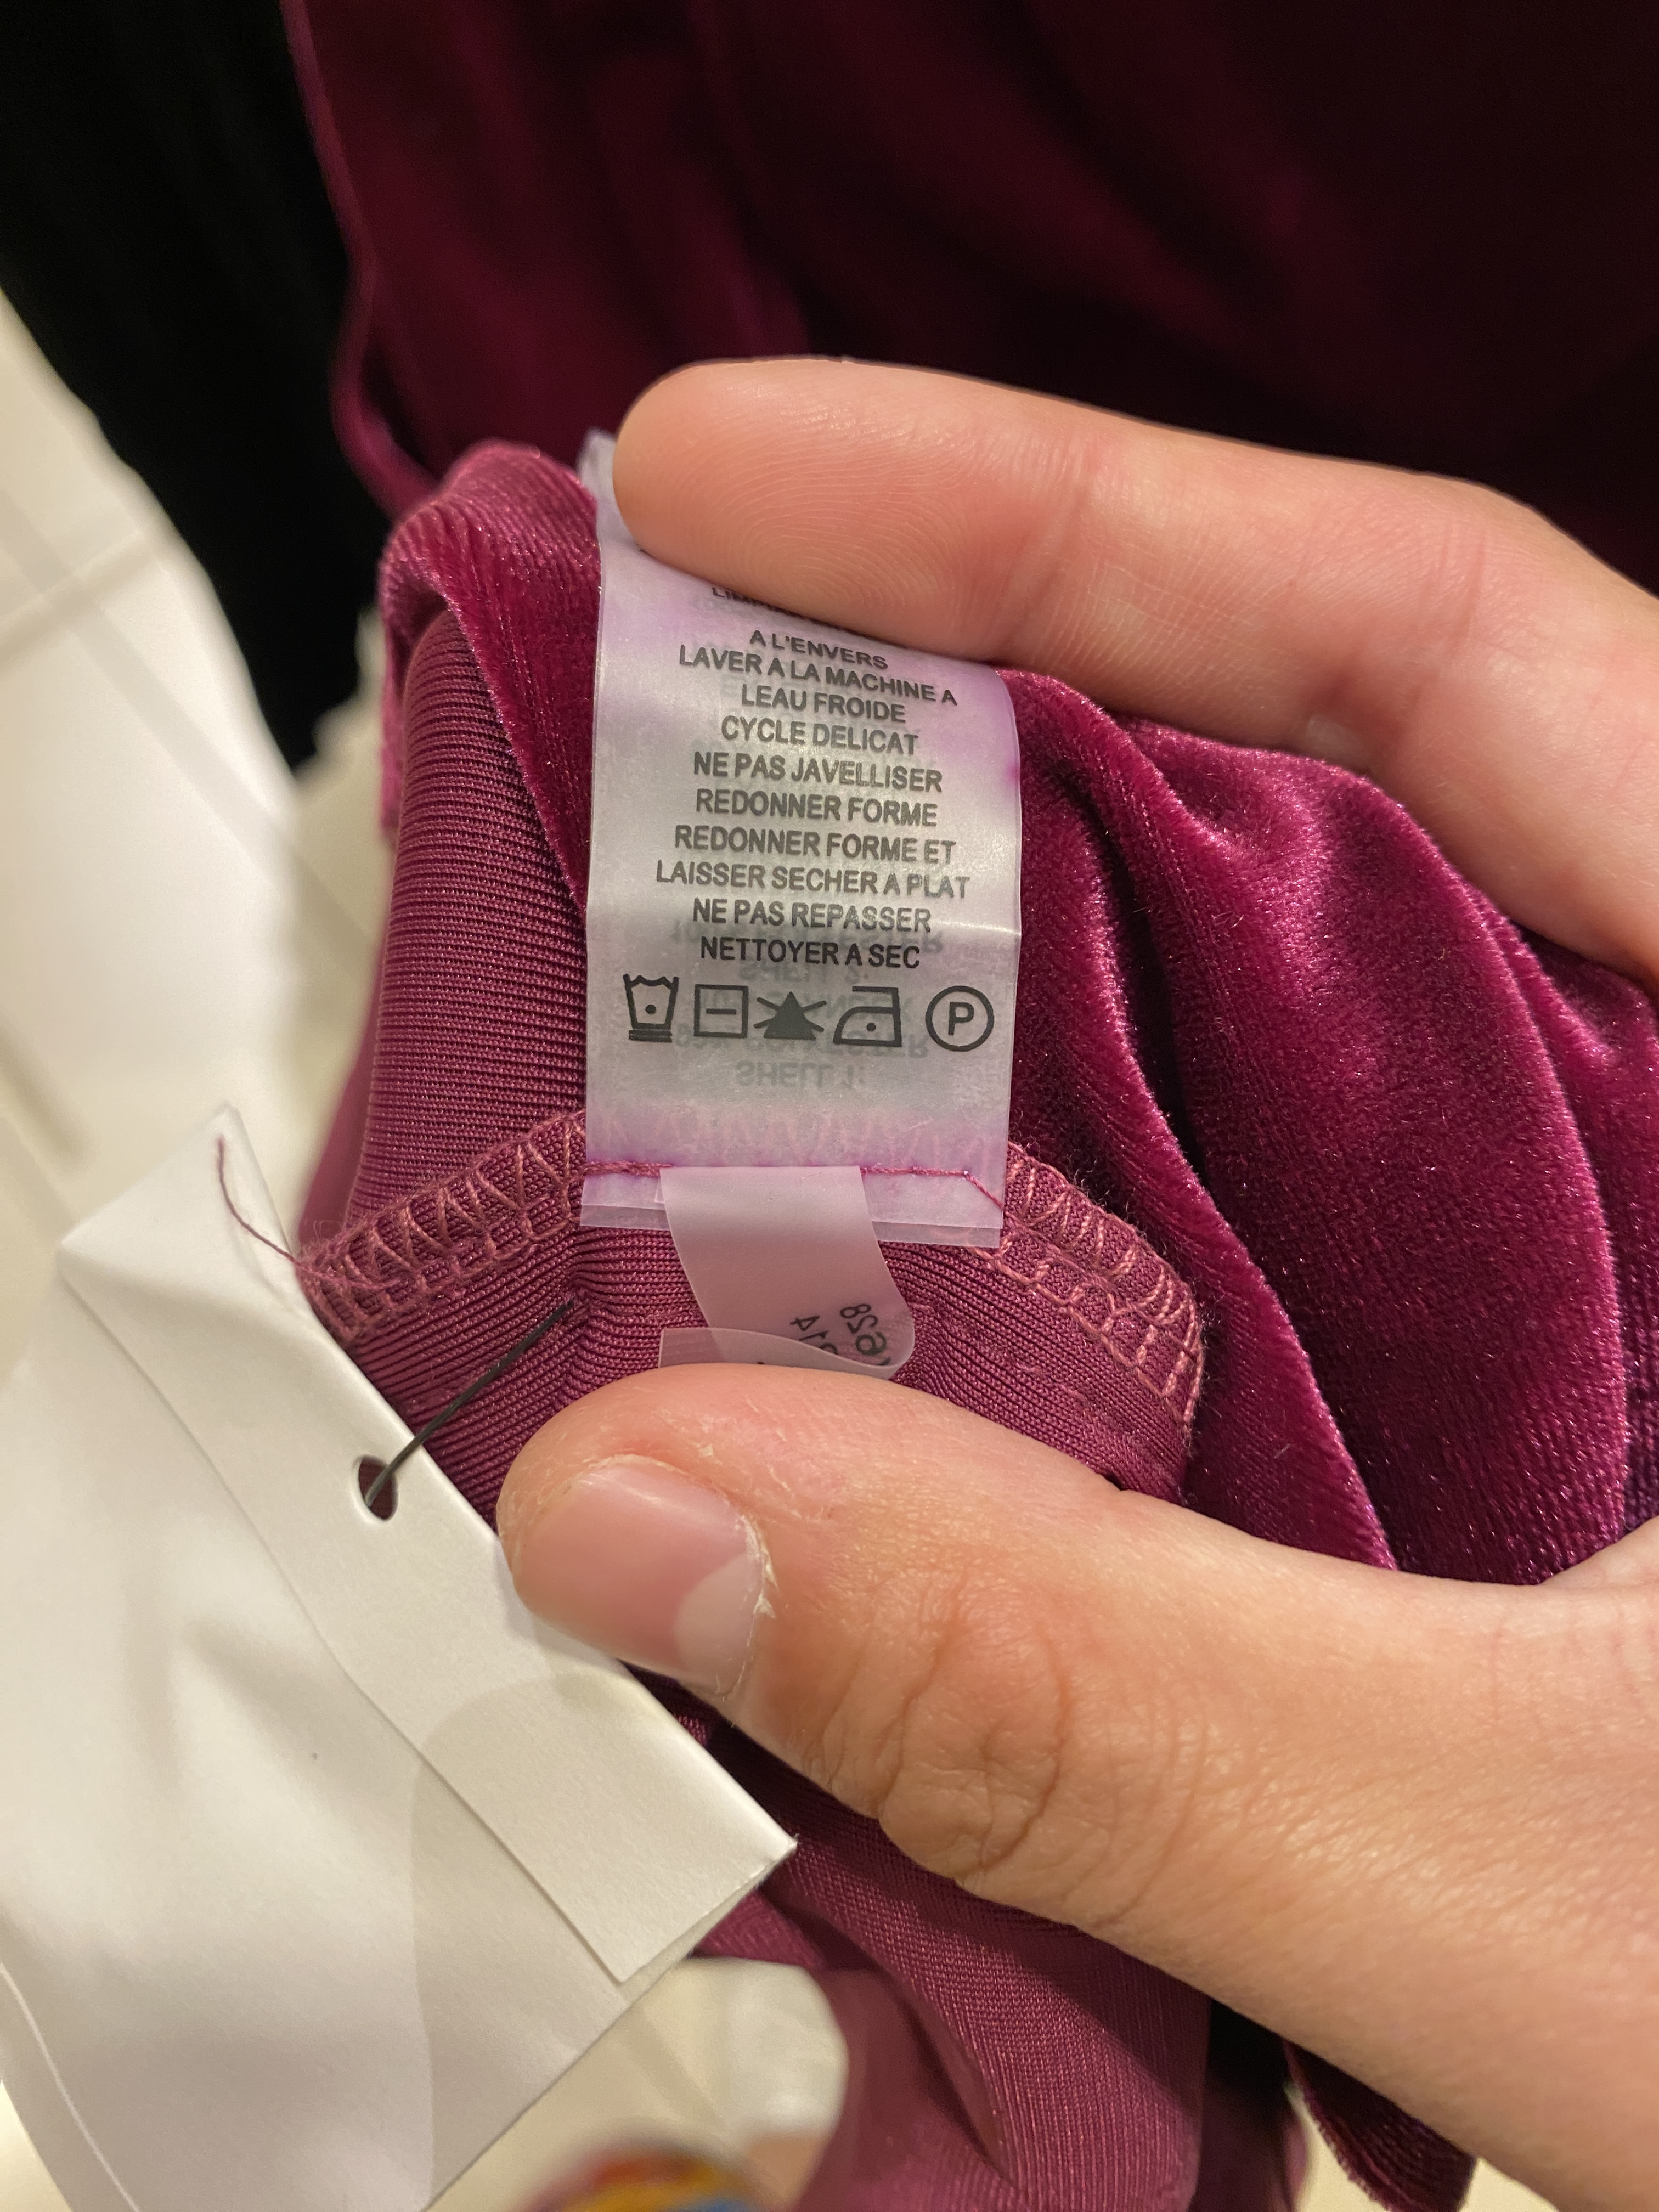icon: (836, 982, 910, 1054), (924, 988, 999, 1055), (749, 986, 831, 1045), (619, 968, 678, 1049), (690, 981, 749, 1040)
